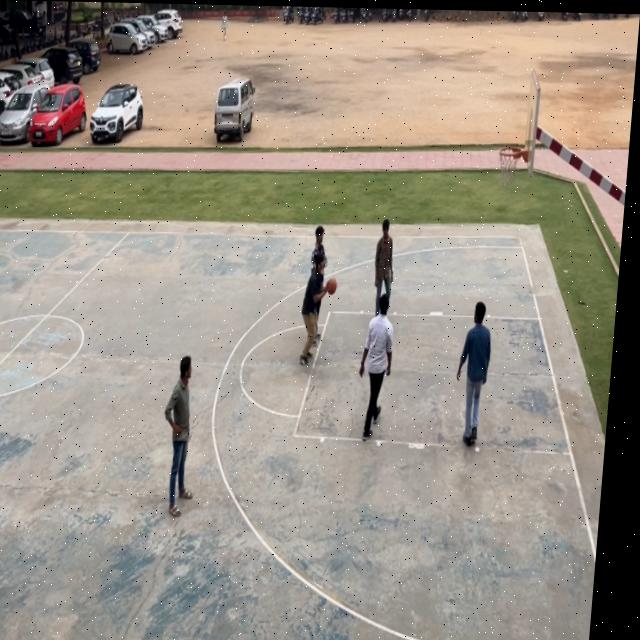basketball: (326, 276, 339, 298)
hoop: (496, 145, 522, 189)
